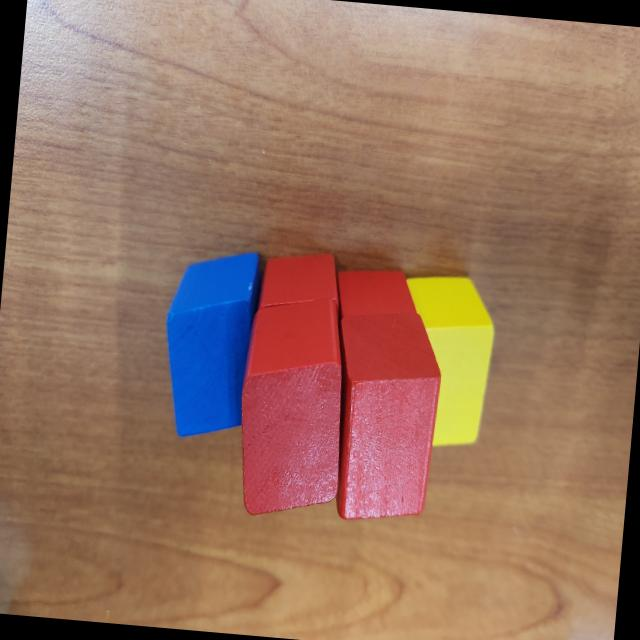blue: (155, 244, 265, 445)
red: (230, 292, 360, 525), (322, 306, 447, 528), (251, 246, 344, 350), (330, 262, 421, 350)
yellow: (391, 271, 499, 453)
